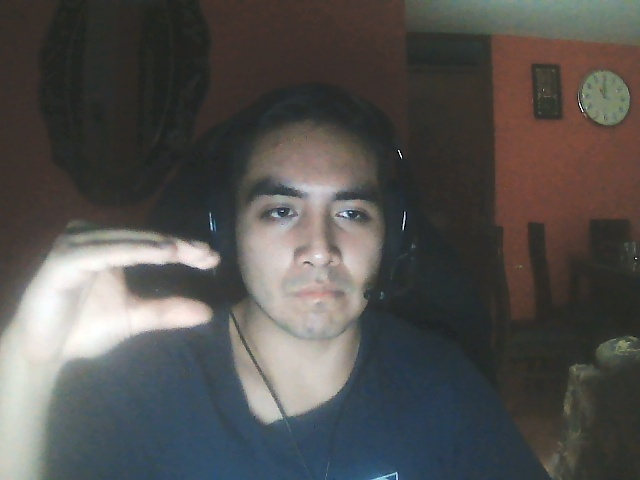no: (18, 215, 225, 366)
